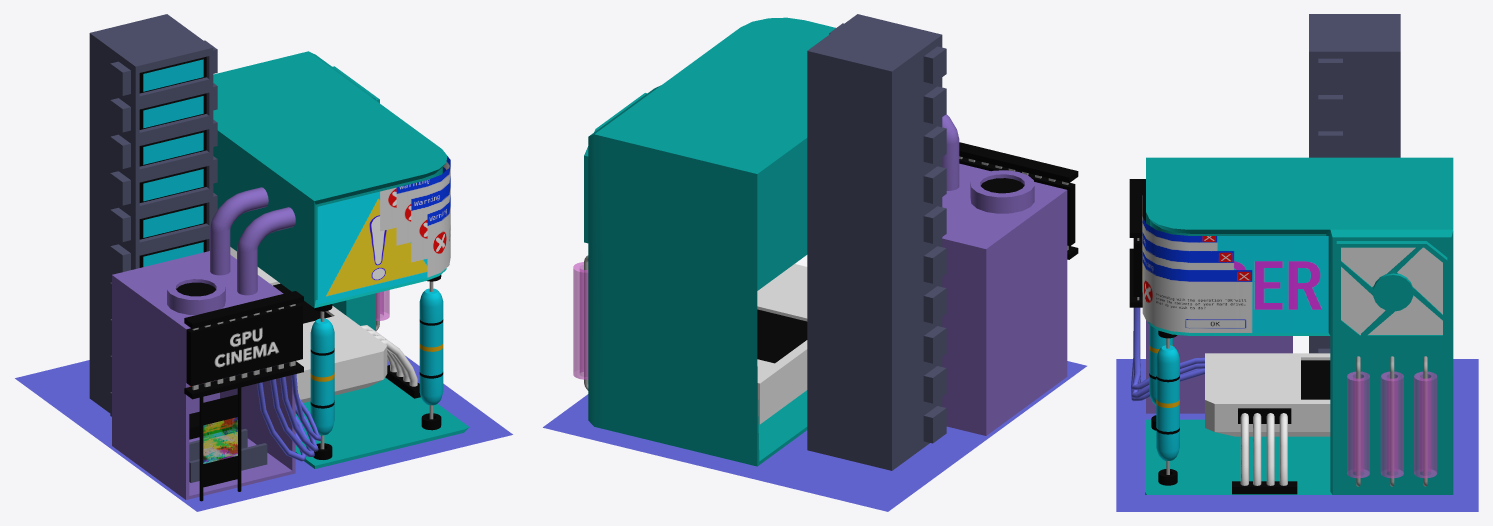
The model's file is Building_B_01.fbx.
3 renders of one model, left to right at view 1: azimuth 30°, elevation 25°; view 2: azimuth 150°, elevation 25°; view 3: azimuth 270°, elevation 25°, orthographic. The views are drawn at different scales.
Parts seen in each view (by area): view 1: building_1, building_3, building_2, Display, YUKA, cinema_signboard, GPU, Poster, Cylinder_right, Cylinder_left, pipe_1, pipe_2 (+10 smaller); view 2: building_1, building_3, building_2, YUKA, GPU, cinema_rooftop_circle, light_cylinder_3, signboard_LongBar_top, cinema_signboard, pipe_1, fan_fence; view 3: building_1, Display, building_3, YUKA, GPU, fan_Plane, building_2, Cylinder_right, light_cylinder_3, light_cylinder_2, light_cylinder_1, fan_fence (+14 smaller).
Boxes of the visible parts, x1,y1,x2,y2 form: building_1: (213, 51, 469, 468); building_3: (89, 14, 217, 416); building_2: (112, 251, 295, 499); Display: (317, 156, 450, 304); YUKA: (15, 355, 512, 511); cinema_signboard: (186, 303, 302, 386); GPU: (257, 267, 387, 402); Poster: (203, 394, 237, 487); Cylinder_right: (419, 288, 443, 405); Cylinder_left: (310, 318, 334, 435); pipe_1: (237, 207, 295, 295); pipe_2: (210, 187, 268, 275); building_1: (588, 17, 835, 466); building_3: (807, 14, 946, 470); building_2: (942, 163, 1067, 435); YUKA: (543, 361, 1086, 511); GPU: (757, 264, 807, 424); cinema_rooftop_circle: (970, 170, 1034, 213); light_cylinder_3: (573, 262, 588, 379); signboard_LongBar_top: (959, 142, 1078, 182); cinema_signboard: (959, 157, 1075, 245); pipe_1: (942, 114, 959, 190); fan_fence: (584, 93, 646, 243); building_1: (1145, 157, 1453, 494); Display: (1142, 195, 1328, 332); building_3: (1309, 14, 1400, 353); YUKA: (1116, 359, 1478, 511); GPU: (1205, 353, 1330, 436); fan_Plane: (1341, 247, 1442, 334); building_2: (1146, 320, 1292, 413); Cylinder_right: (1156, 345, 1179, 460); light_cylinder_3: (1414, 371, 1437, 478); light_cylinder_2: (1380, 371, 1403, 478); light_cylinder_1: (1347, 371, 1369, 478); fan_fence: (1336, 241, 1447, 339).
Size of the model in its own units: 20 by 22.08 by 20.
